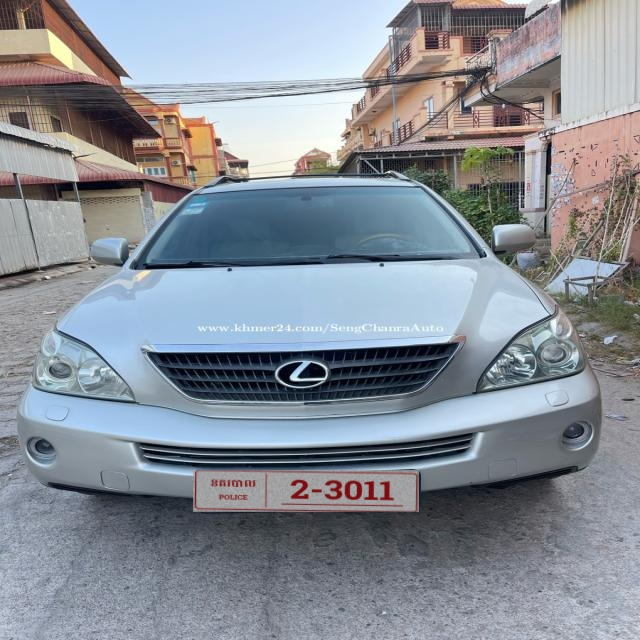Plate Number: (193, 470, 420, 512)
